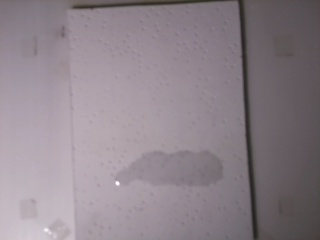Water_detected: (129, 151, 213, 191)
